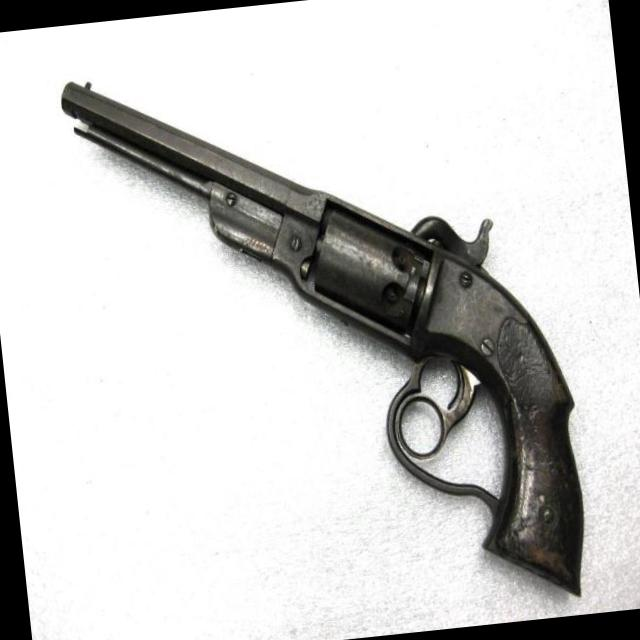Knife: (61, 84, 583, 593)
